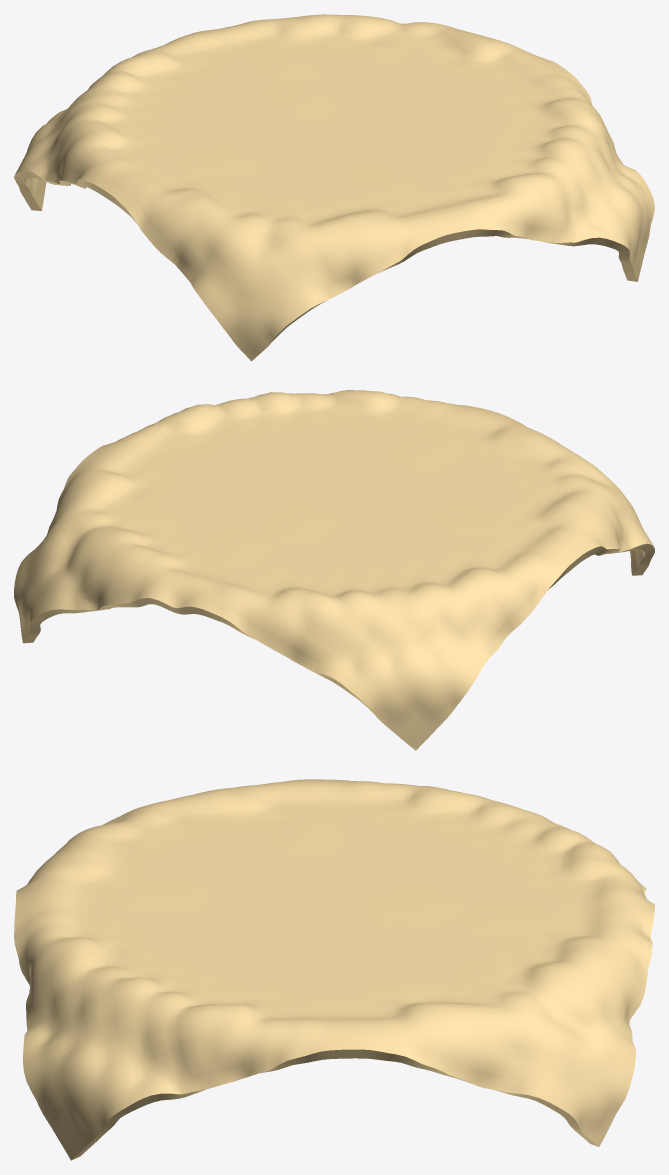
The model's file is Cheese1.fbx.
The picture shows the model from 3 angles, top to bottom: view 1: azimuth 30°, elevation 25°; view 2: azimuth 150°, elevation 25°; view 3: azimuth 270°, elevation 25°; orthographic projection. The views are drawn at different scales.
Parts seen in each view (by area): view 1: cheese_2; view 2: cheese_2; view 3: cheese_2.
Boxes of the visible parts, <box> form: cheese_2: <box>14,14,654,361</box>; cheese_2: <box>14,390,654,750</box>; cheese_2: <box>14,779,654,1160</box>.
Bounding box in the file's own units: 15.09 × 3.98 × 15.11.
